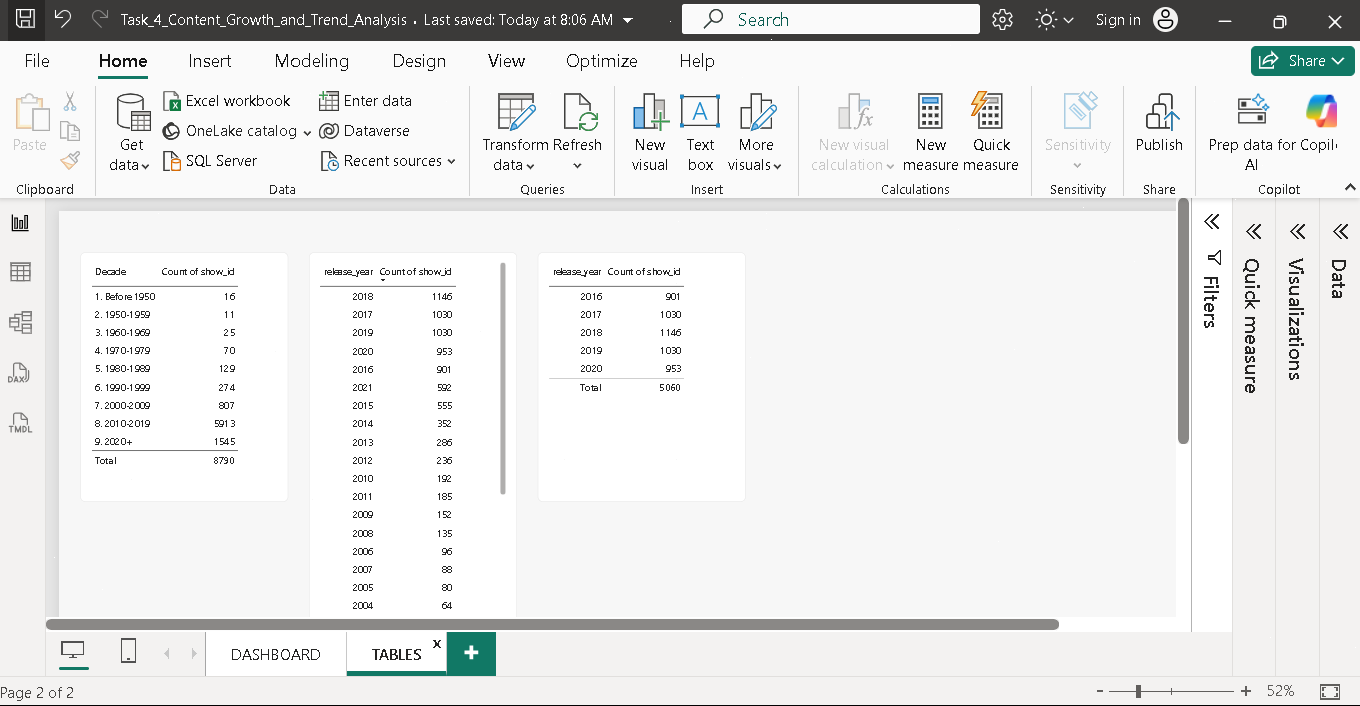

The dashboard page shown, as its layout file describes it:
{"tool":"powerbi","page":{"name":"TABLES","canvas":[1920,1080],"ordinal":1},"visuals":[{"type":"tableEx","fields":{"Values":["Dataset Prepared.Decade","Dataset Prepared.show_id"]},"box":[32,64,320,384],"z":0},{"type":"tableEx","fields":{"Values":["Dataset Prepared.release_year","CountNonNull(Dataset Prepared.show_id)"]},"box":[384,64,320,928],"z":1000},{"type":"tableEx","fields":{"Values":["Dataset Prepared.release_year","Dataset Prepared.show_id"]},"box":[736,64,320,384],"z":2000}]}

Visuals, with their boxes on the page's 1920x1080 design canvas (x1, y1, x2, y2). These are canvas units, not pixel positions in the 1360x706 screenshot, which may show the page scaled, cropped or inside an application window:
tableEx - Dataset Prepared.Decade x Dataset Prepared.show_id: detection(32, 64, 352, 448)
tableEx - Dataset Prepared.release_year x CountNonNull(Dataset Prepared.show_id): detection(384, 64, 704, 992)
tableEx - Dataset Prepared.release_year x Dataset Prepared.show_id: detection(736, 64, 1056, 448)
